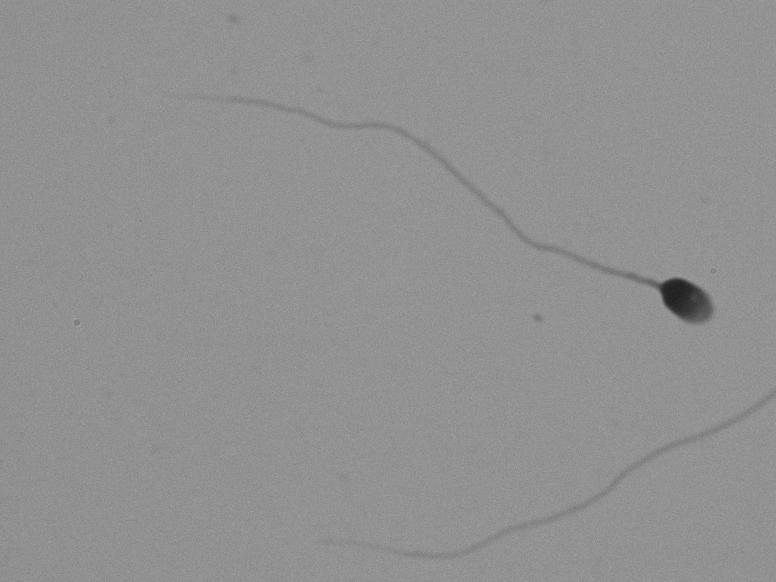Normal: (127, 81, 740, 358)
